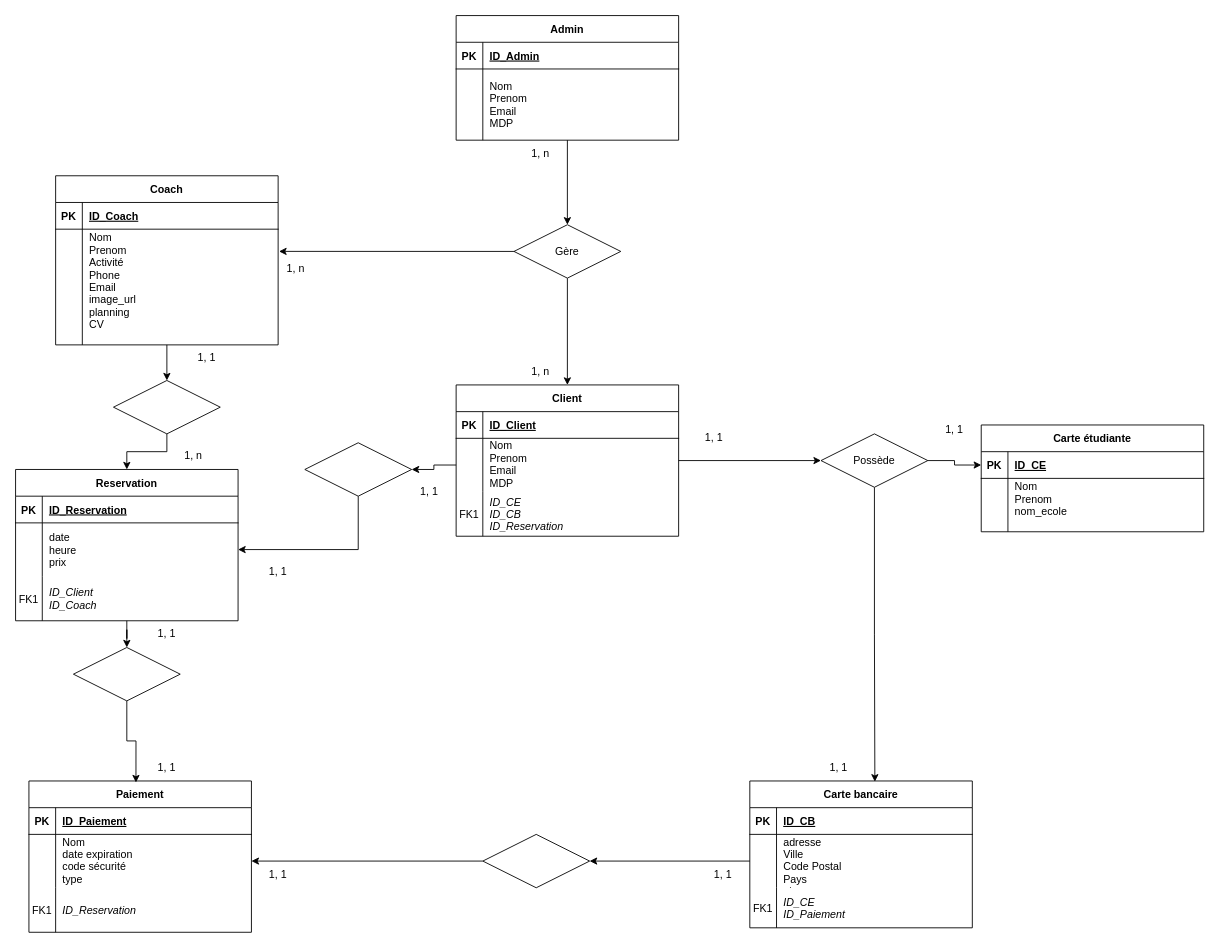
Image size: 1219x948. Some labels were removed from this diagram. Each missing label, with the centre of its shape:
"Autorise" belongs at point 536,860.
"Effectue" belongs at point 358,469.
"Propose" belongs at point 166,407.
"Requiert" belongs at point 126,674.
